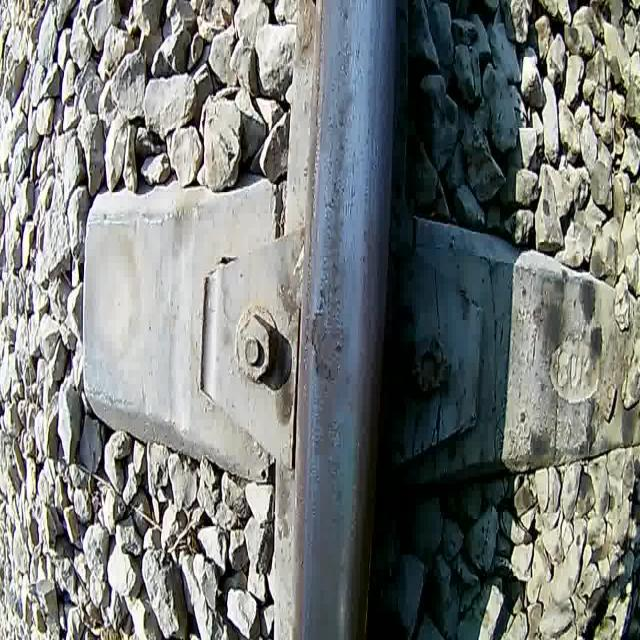Squats: (307, 300, 350, 389)
